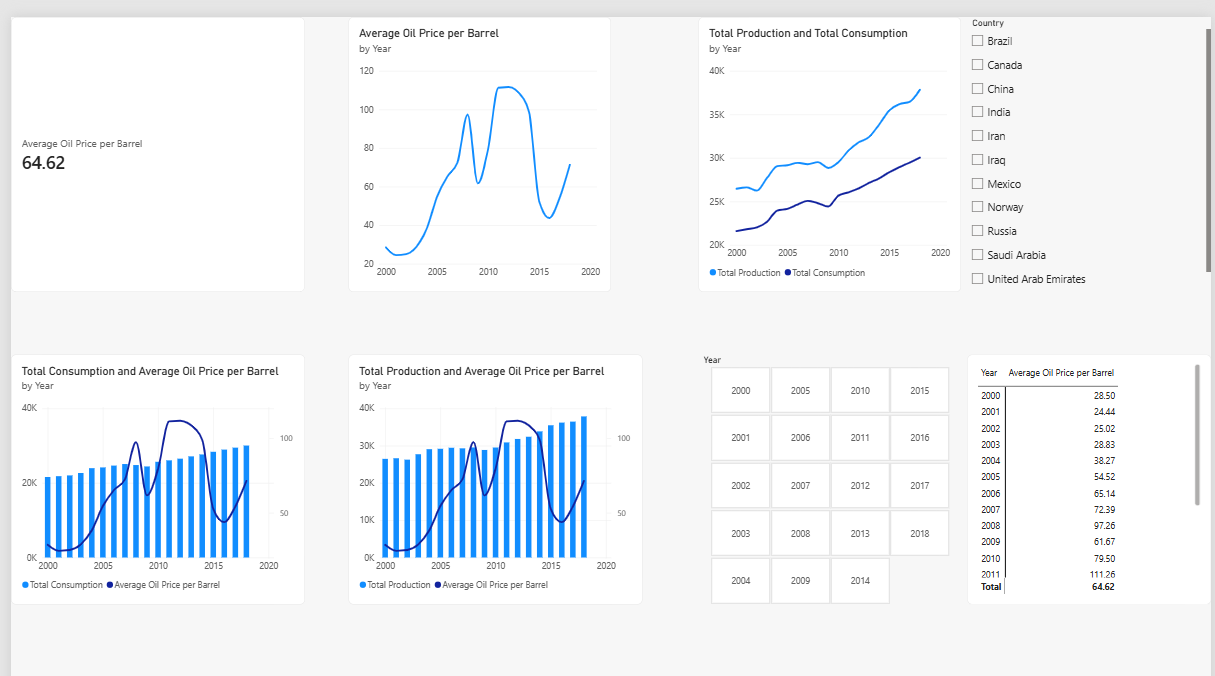

This screenshot's page, from the dashboard's own definition file:
{"tool":"powerbi","page":{"name":"Page 4","canvas":[1920,1080],"ordinal":3},"visuals":[{"type":"lineChart","fields":{"Category":["Dim_Year.Year"],"Y":["Fact_oilsales.average oil price"]},"box":[540,0,420,440],"z":1},{"type":"lineChart","fields":{"Category":["Dim_Year.Year"],"Y":["Fact_Production.Total Production","Fact_Consumption.Total Consumption"]},"box":[1100,0,420,440],"z":2},{"type":"lineClusteredColumnComboChart","fields":{"Category":["Dim_Year.Year"],"Y":["Fact_Consumption.Total Consumption"],"Y2":["Fact_oilsales.average oil price"]},"box":[0,540,470,400],"z":3},{"type":"cardVisual","fields":{"Data":["Fact_oilsales.average oil price"]},"box":[0,0,470,440],"z":4},{"type":"lineClusteredColumnComboChart","fields":{"Category":["Dim_Year.Year"],"Y":["Fact_Production.Total Production"],"Y2":["Fact_oilsales.average oil price"]},"box":[540,540,470,400],"z":5},{"type":"slicer","fields":{"Values":["Dim_Year.Year"]},"box":[1100,540,420,400],"z":6},{"type":"slicer","fields":{"Values":["Dim_Country.Country"]},"box":[1530,0,390,440],"z":7},{"type":"pivotTable","fields":{"Rows":["Fact_oilsales.Year"],"Values":["Fact_oilsales.average oil price"]},"box":[1530,540,390,400],"z":8}]}

Visuals, with their boxes in screenshot pixels (x1, y1, x2, y2), scaled from the page's 1920x1080 canvas onto the 1215x676 screenshot:
lineChart - Dim_Year.Year x Fact_oilsales.average oil price: <bbox>342, 0, 608, 275</bbox>
lineChart - Dim_Year.Year x Fact_Production.Total Production: <bbox>696, 0, 962, 275</bbox>
lineClusteredColumnComboChart - Dim_Year.Year x Fact_Consumption.Total Consumption: <bbox>0, 338, 297, 588</bbox>
cardVisual - Fact_oilsales.average oil price: <bbox>0, 0, 297, 275</bbox>
lineClusteredColumnComboChart - Dim_Year.Year x Fact_Production.Total Production: <bbox>342, 338, 639, 588</bbox>
slicer - Dim_Year.Year: <bbox>696, 338, 962, 588</bbox>
slicer - Dim_Country.Country: <bbox>968, 0, 1214, 275</bbox>
pivotTable - Fact_oilsales.Year x Fact_oilsales.average oil price: <bbox>968, 338, 1214, 588</bbox>
